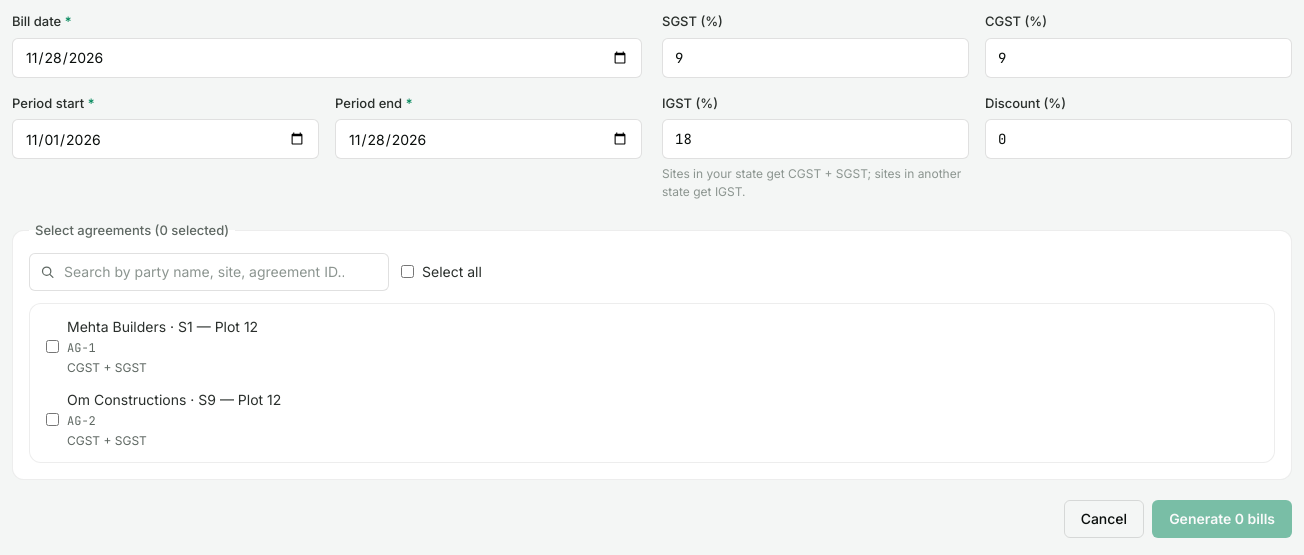
Test: BulkBillForm › filters by search, selects all filtered and clears them again
Type "om cons" into the search field with placeholder "Search by party name, site, agreement ID…".
click(209, 272); type("om cons")  # box [29,252,389,290]
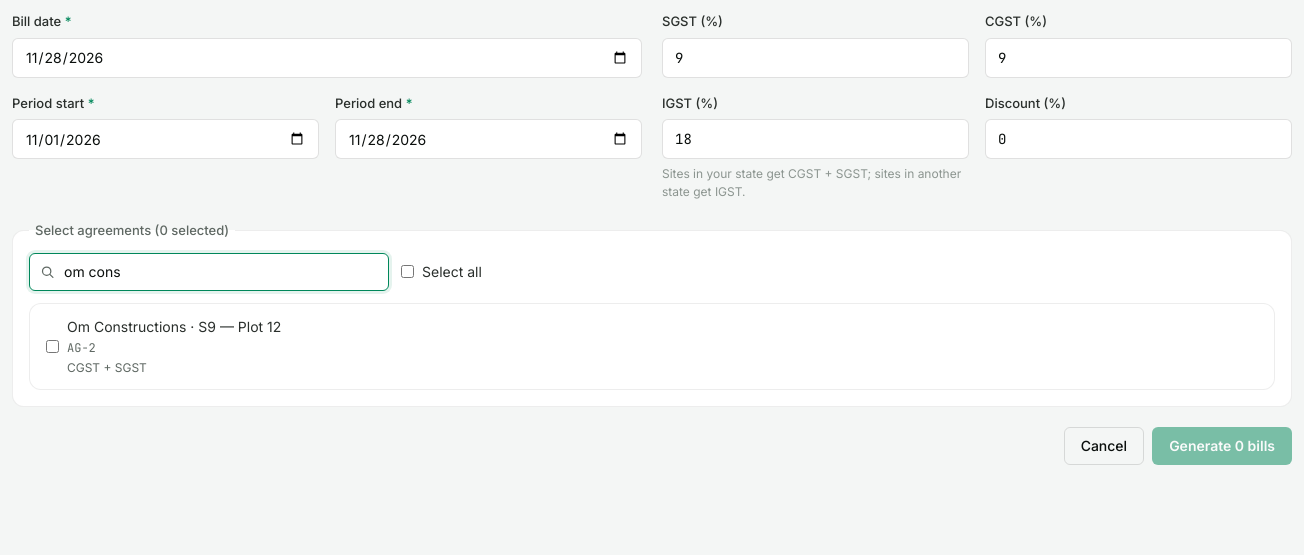
Result: the text "Mehta Builders" is gone
Click the checkbox labelled "Select all".
click(408, 272)  # box [401,265,414,278]
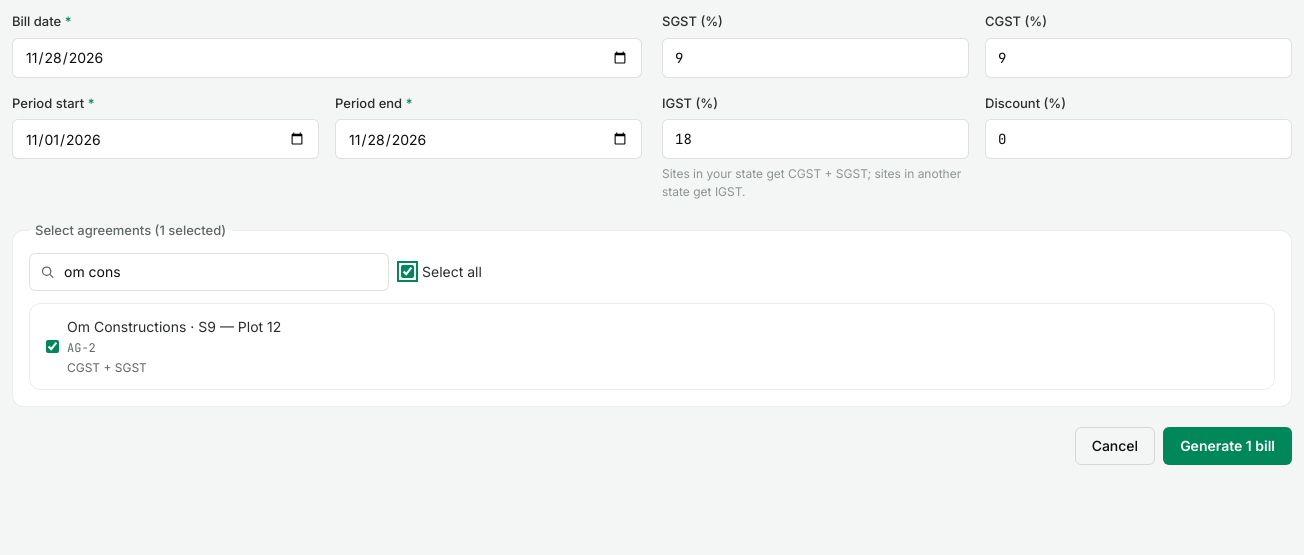
Result: the text "Select agreements (1 selected)" is shown at [29,221,232,240]
Click the checkbox labelled "Select all".
click(408, 272)  # box [401,265,414,278]
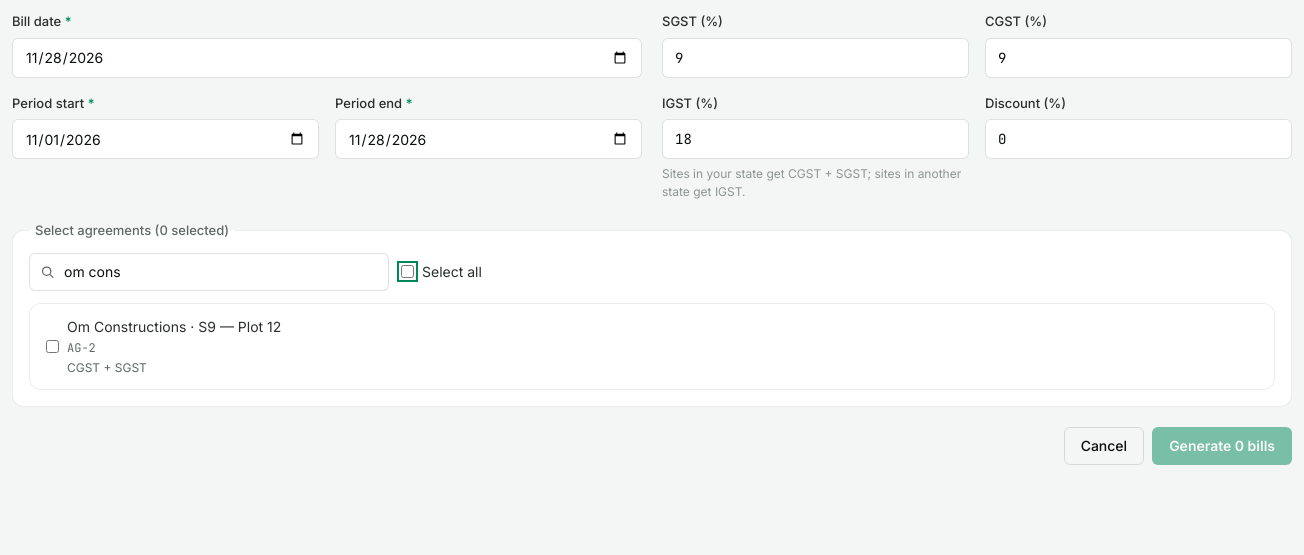
Result: the text "Select agreements (0 selected)" is shown at [29,221,235,240]
Replace the text in the search field with placeholder "Search by party name, site, agreement ID…" with "zzz" at x=209, y=272, box [29,252,389,290]
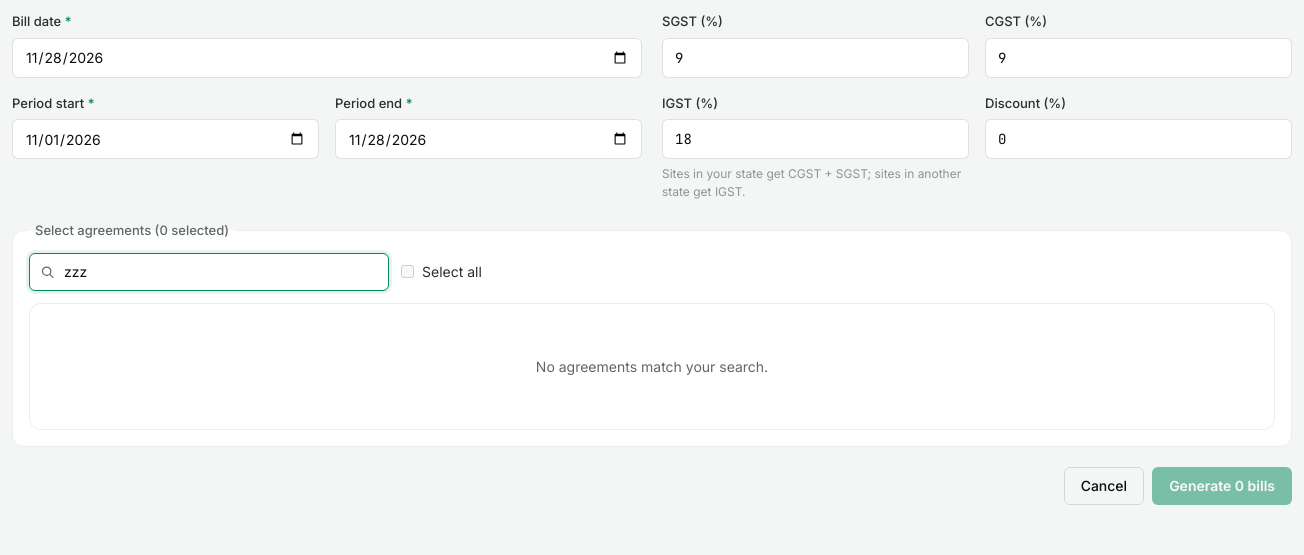
Result: the text "No agreements match your search." is shown at [536,356,768,376]
